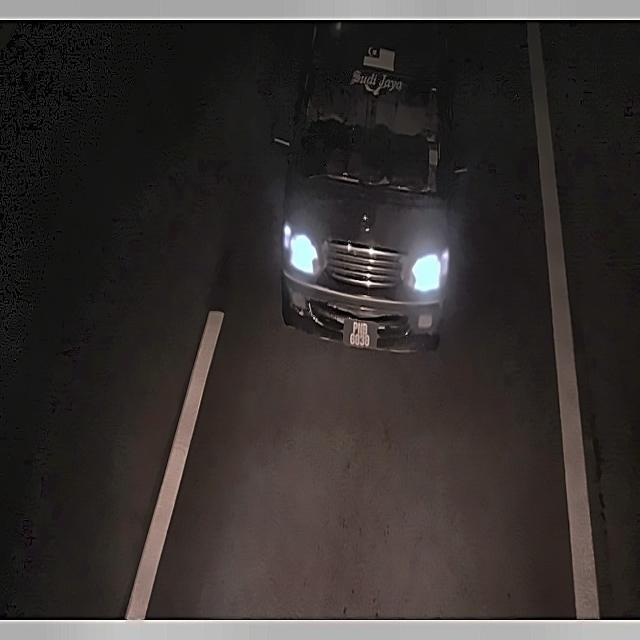car: (342, 314, 380, 352)
